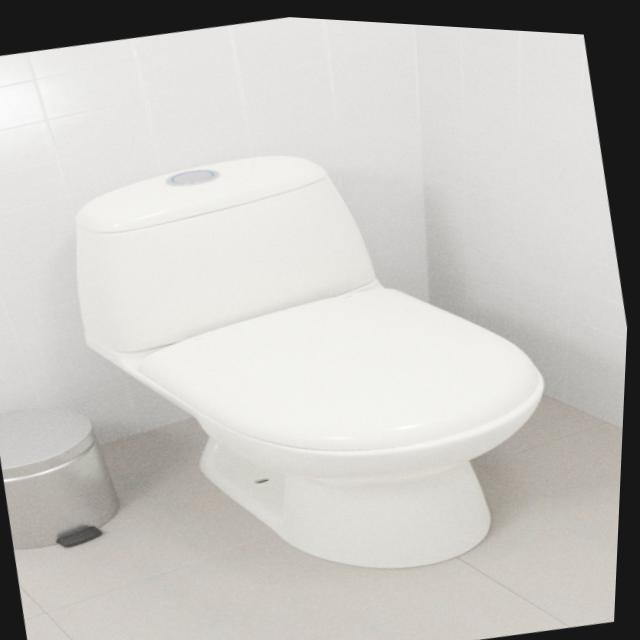toilet: (48, 95, 590, 625)
